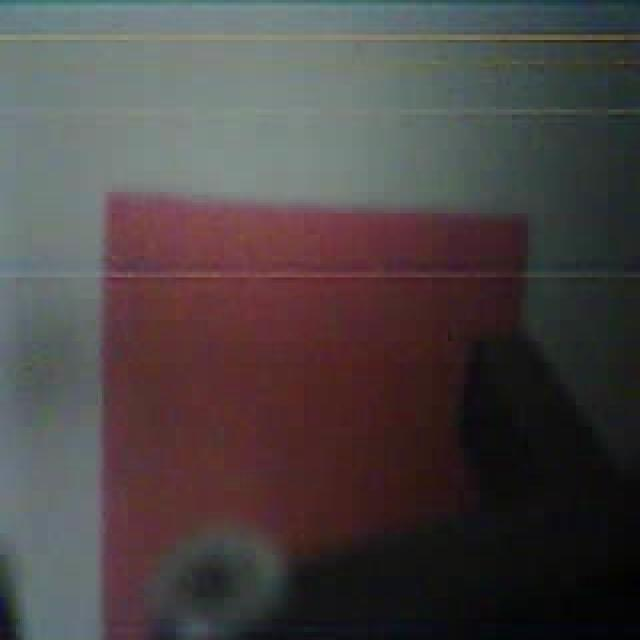red_box: (94, 186, 534, 640)
